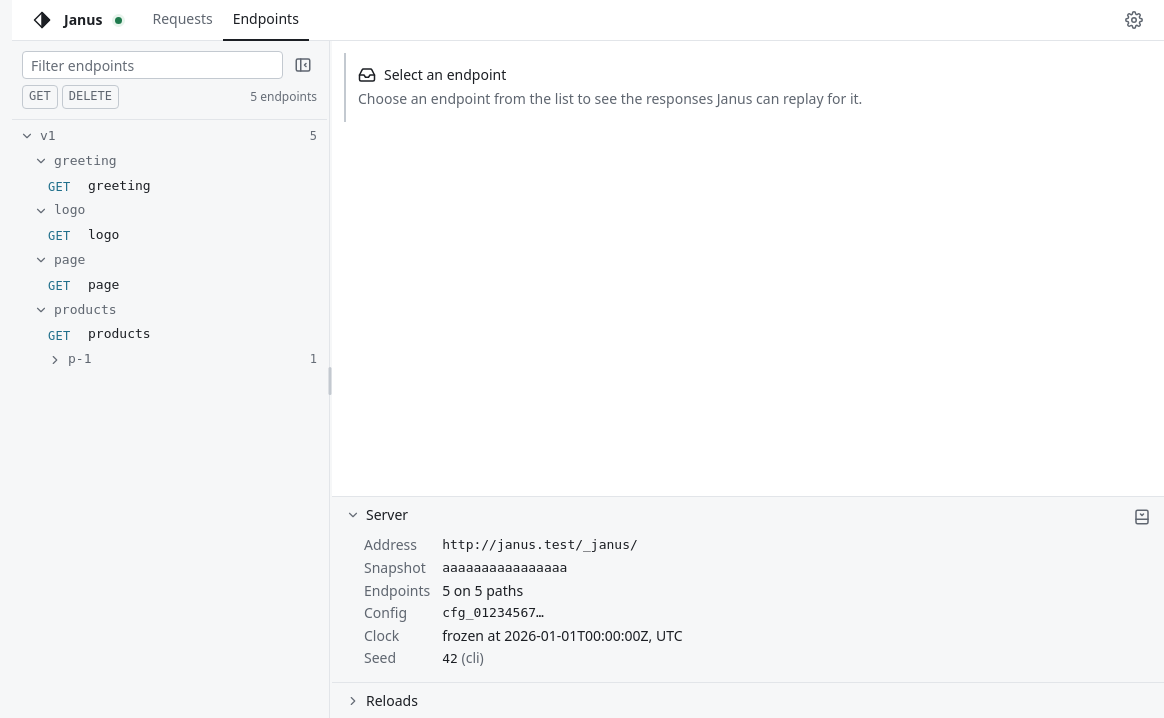
it: App › shows binary previews as labelled base64
The width and height of the screenshot is (1164, 718).
Click the link with aria-label "GET /v1/logo, scenario default". click: (104, 235)
box: [48,227,119,243]
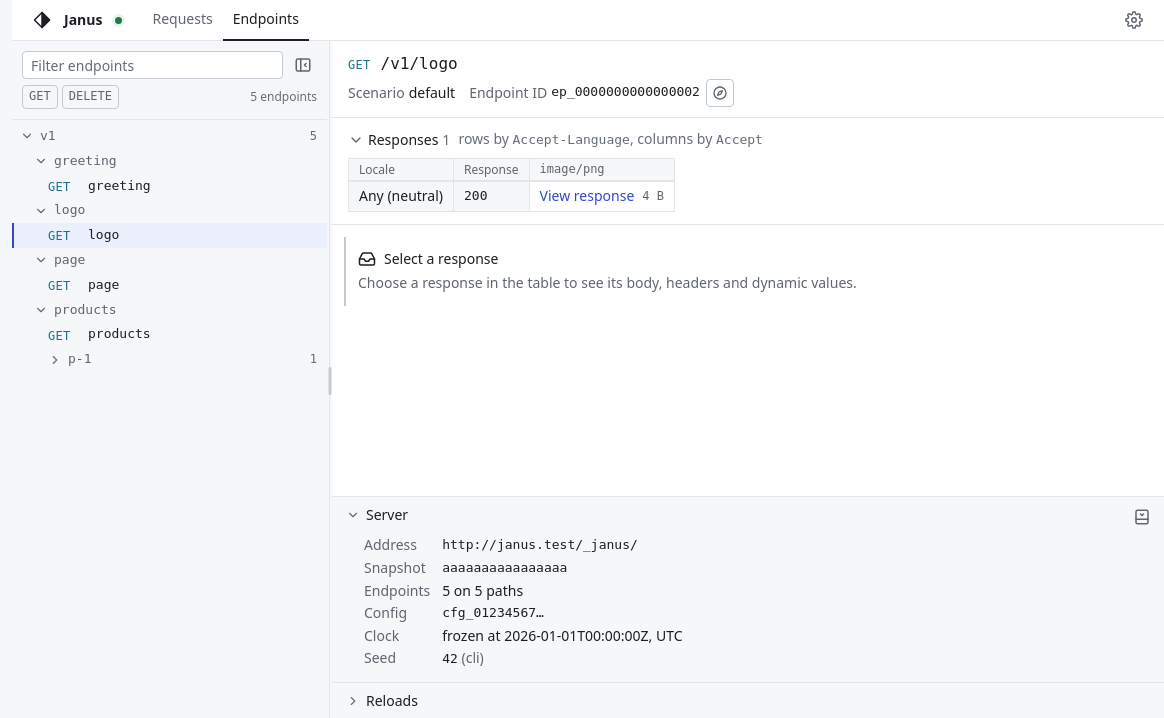
Click the link with aria-label "View response 200". click: (602, 197)
box: [530,182,674,211]
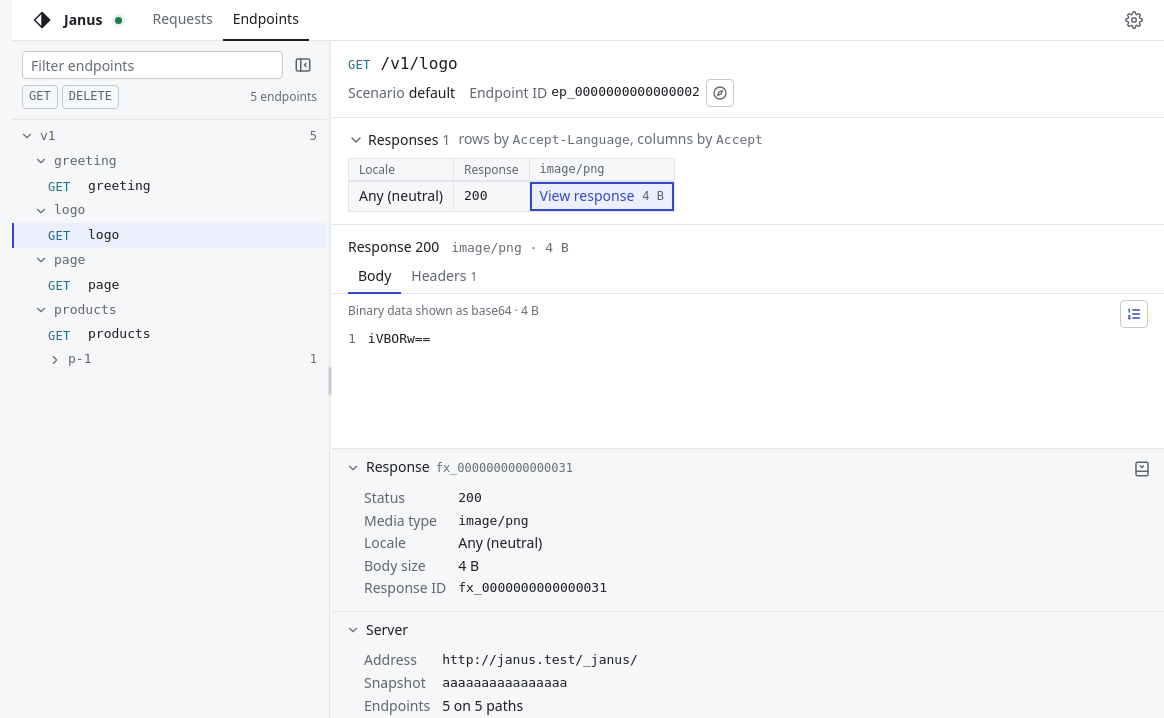
Check: the text "Binary data shown as base64 · 4 B" is shown, box [348,302,539,319]
